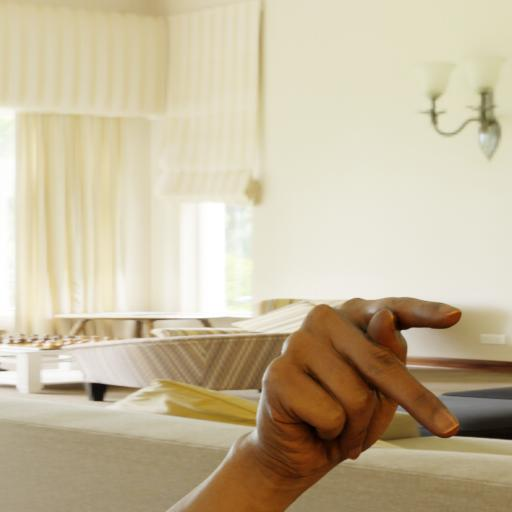P: (226, 234, 511, 512)
